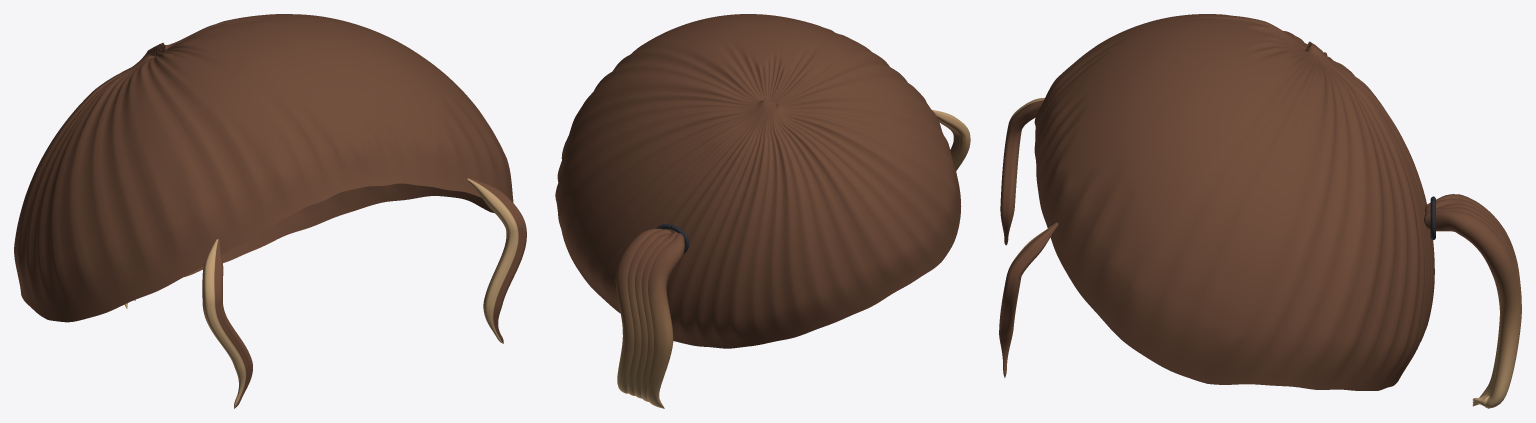
File: Ombre-61ed6273d619253-hair.glb
3 renders of one model, left to right at view 1: azimuth 30°, elevation 25°; view 2: azimuth 150°, elevation 25°; view 3: azimuth 270°, elevation 25°, orthographic. The views are drawn at different scales.
Visible parts, largest first — view 1: 226 hair / Hair / crisp pulled roots220.001, 226 hair / Hair / sculpted front locks222.001; view 2: 226 hair / Hair / crisp pulled roots220.001, 226 hair / Hair / chestnut226, 226 hair / Hair / sculpted front locks222.001; view 3: 226 hair / Hair / crisp pulled roots220.001, 226 hair / Hair / chestnut226, 226 hair / Hair / sculpted front locks222.001.
Boxes of the visible parts, x1,y1,x2,y2 form: 226 hair / Hair / crisp pulled roots220.001: [14, 14, 513, 322]; 226 hair / Hair / sculpted front locks222.001: [202, 177, 526, 408]; 226 hair / Hair / crisp pulled roots220.001: [555, 14, 961, 348]; 226 hair / Hair / chestnut226: [615, 228, 684, 408]; 226 hair / Hair / sculpted front locks222.001: [932, 110, 970, 171]; 226 hair / Hair / crisp pulled roots220.001: [1034, 14, 1434, 390]; 226 hair / Hair / chestnut226: [1424, 194, 1521, 408]; 226 hair / Hair / sculpted front locks222.001: [999, 98, 1058, 377].
Bounding box in the file's own units: 0.9675 × 0.7594 × 0.9676.
Materials: 4 (3 with a texture image).
